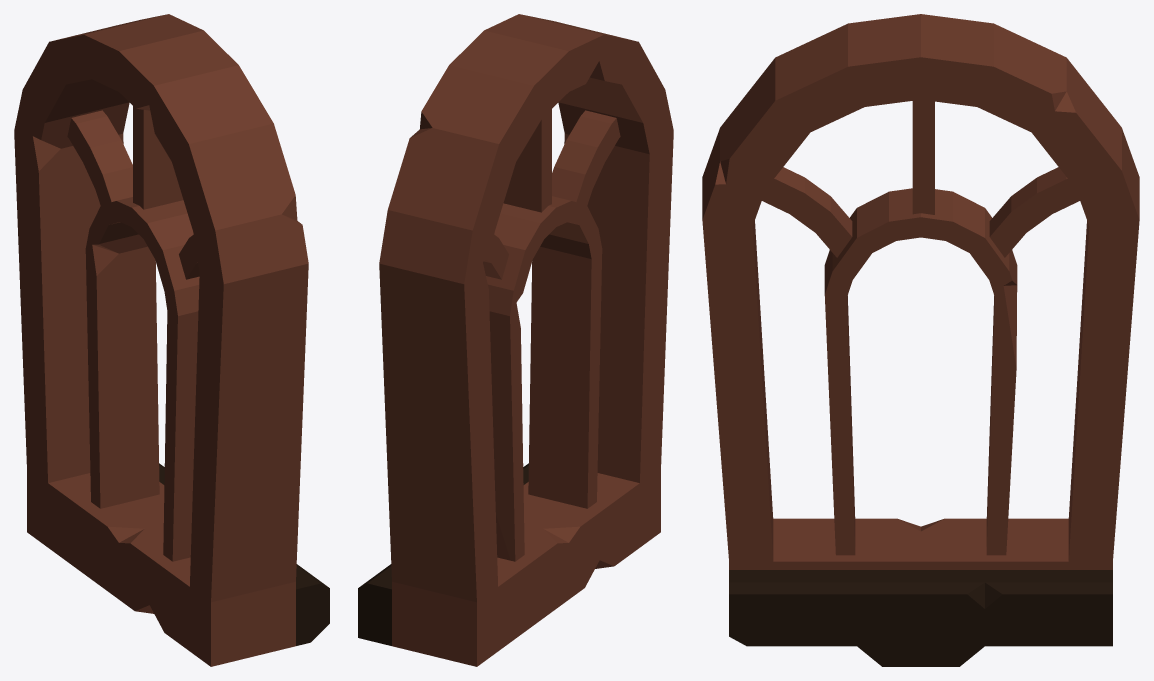
File: SFI_Building_Window.fbx
The picture shows the model from 3 angles, left to right: view 1: azimuth 30°, elevation 25°; view 2: azimuth 150°, elevation 25°; view 3: azimuth 270°, elevation 25°; orthographic projection. The views are drawn at different scales.
Visible parts, largest first — view 1: SFI_Building_Window; view 2: SFI_Building_Window; view 3: SFI_Building_Window.
Boxes of the visible parts, left/top/right/bottom form: SFI_Building_Window: left=14, top=14, right=329, bottom=666; SFI_Building_Window: left=358, top=14, right=673, bottom=666; SFI_Building_Window: left=702, top=14, right=1139, bottom=666.
Size of the model in its own units: 37.33 by 171 by 114.
